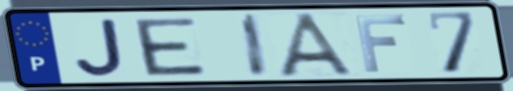7: (426, 10, 478, 75)
A: (275, 10, 362, 78)
E: (130, 16, 210, 78)
F: (352, 13, 410, 74)
I: (239, 12, 272, 79)
J: (73, 17, 127, 78)
